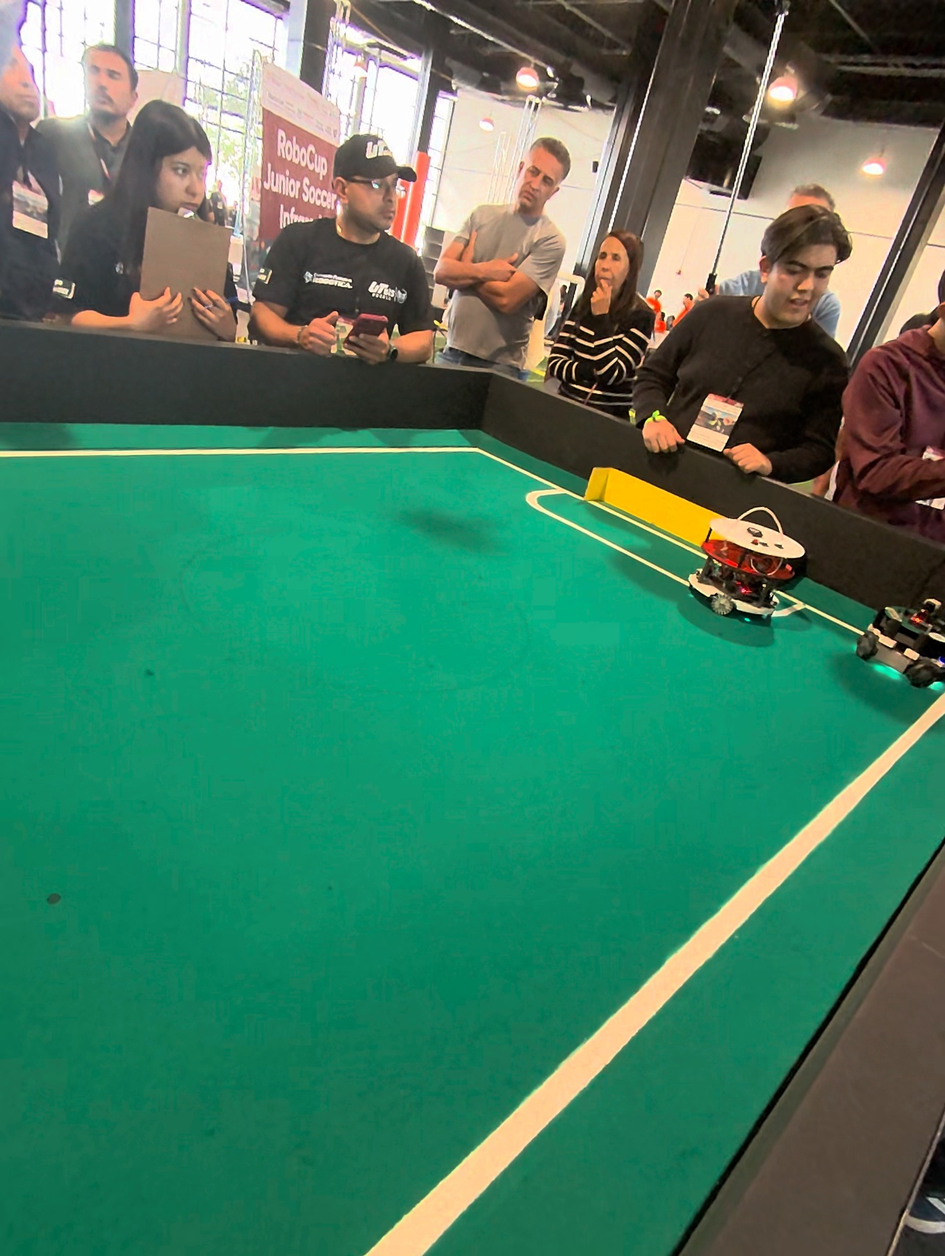Robot: (685, 503, 807, 636), (858, 586, 945, 701)
